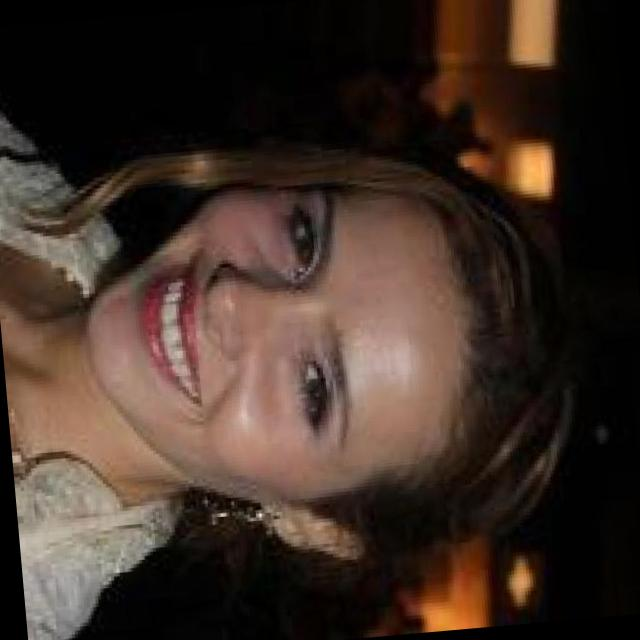bareface: (59, 110, 514, 563)
